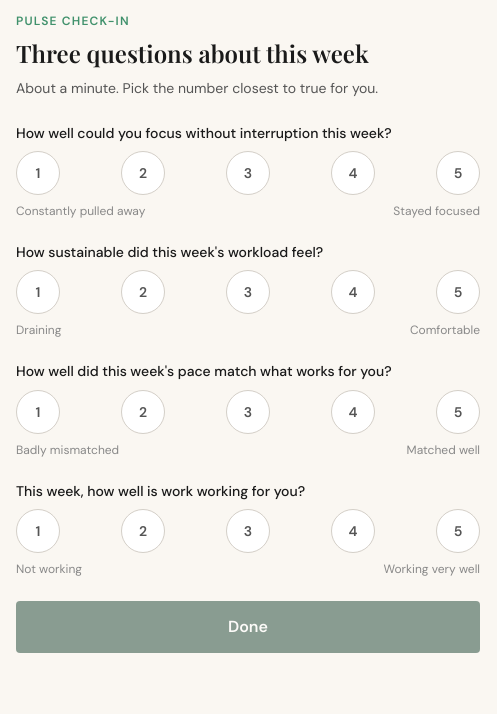
Test: PulseCheckinPage › preserves answers and shows an inline error when the submit fails
Expected: the text "How well could you focus without interruption this week?" is shown, [16,124,392,142]
Click the 1st radio button labelled "4" at (353, 173), box [331,151,375,195]
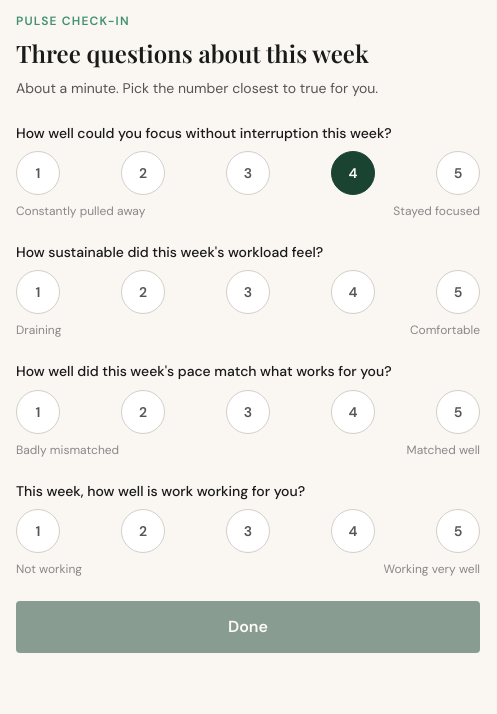
Click the 2nd radio button labelled "4" at (353, 292), box [331,270,375,314]
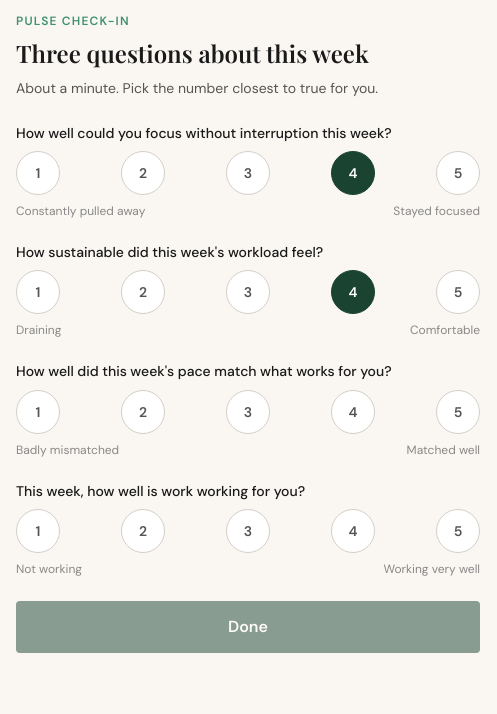
Click the 3rd radio button labelled "4" at (353, 412), box [331,390,375,434]
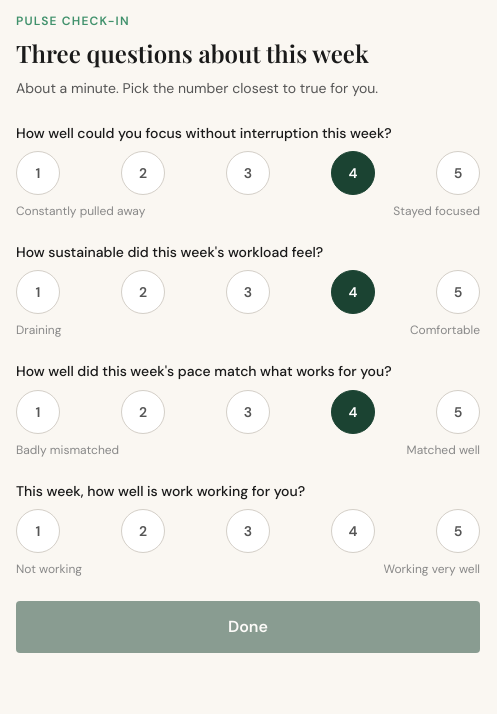
Click the 4th radio button labelled "4" at (353, 531), box [331,509,375,553]
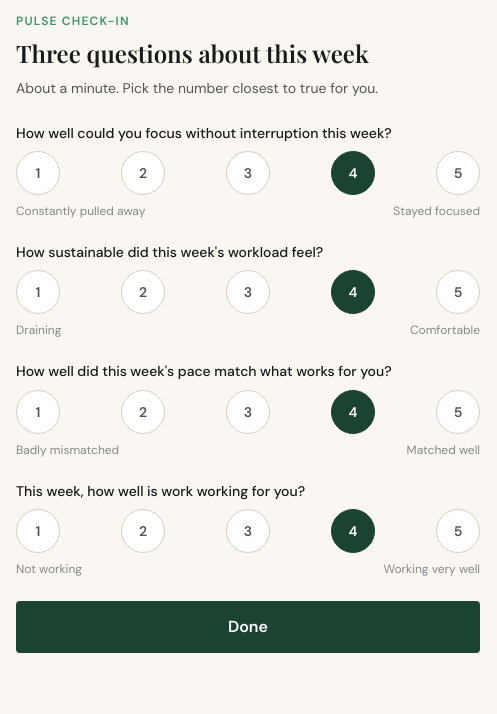
Click the button "Done" at (248, 627), box [16,601,480,653]
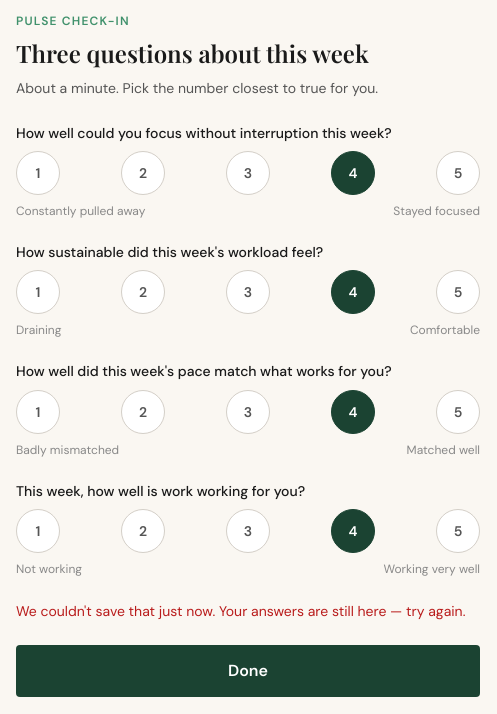
Now the message shows "We couldn't save that just now", box [16,602,465,620]
